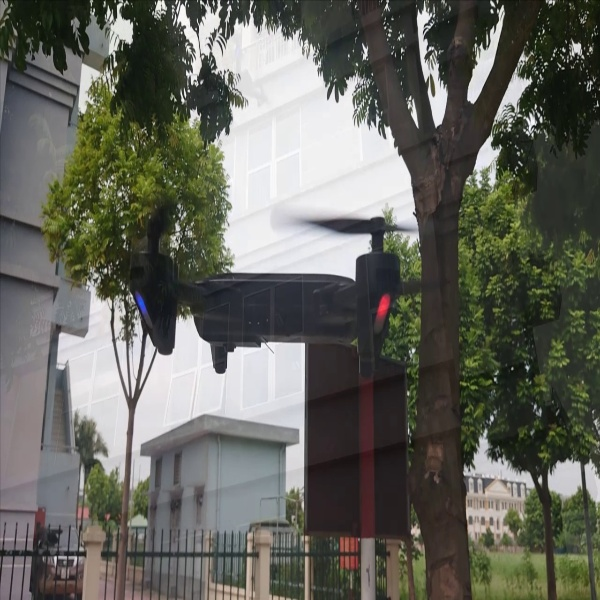drone: (119, 195, 419, 380)
